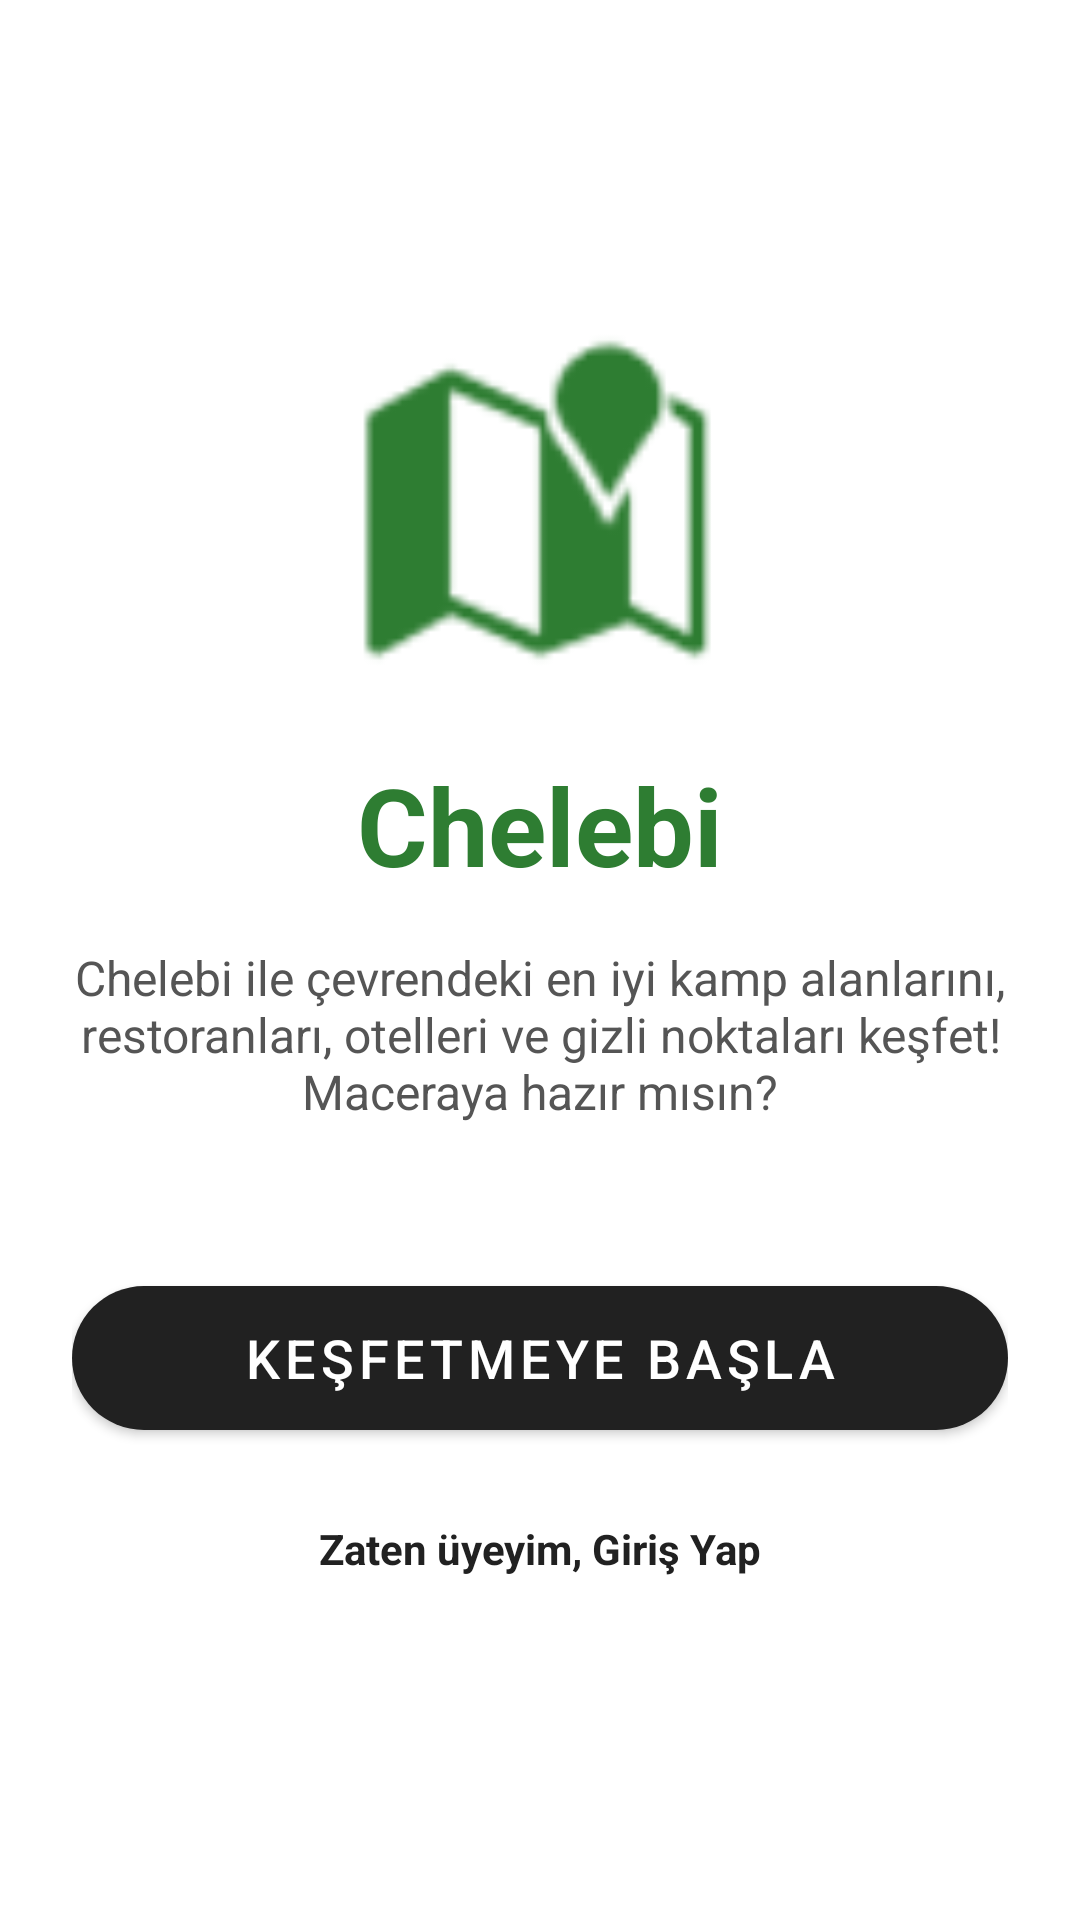

Icons on this 1080*1920 Android screen, each with its box as (x1, y1, x2, y2):
map: (364, 341, 710, 659)
